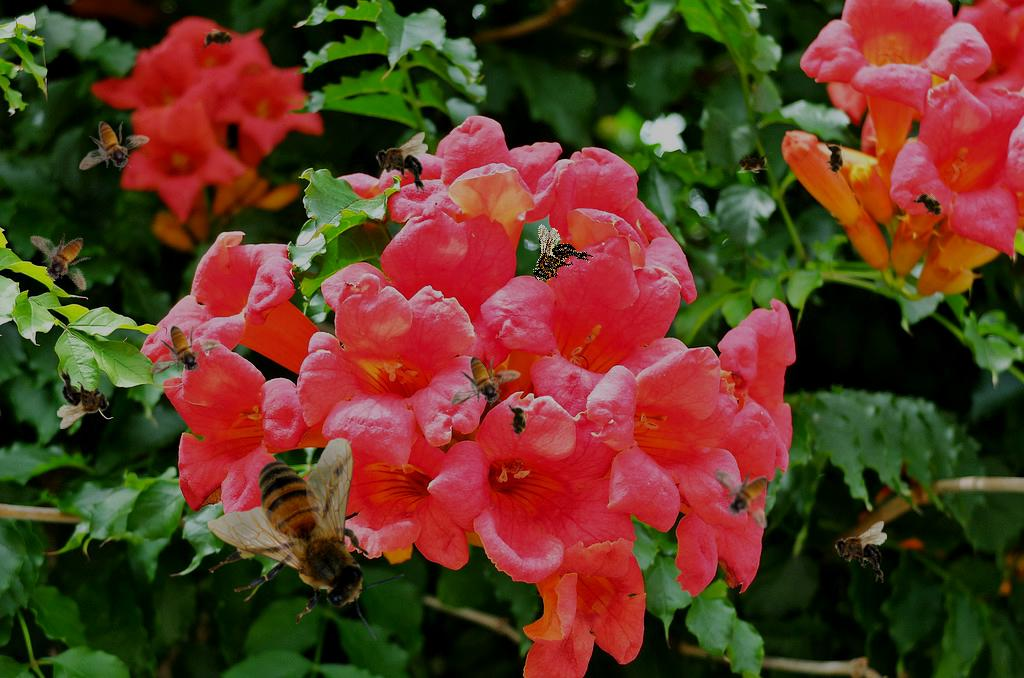Bee: (207, 437, 406, 641), (515, 221, 596, 299), (28, 218, 102, 303), (713, 456, 783, 539), (150, 325, 221, 375), (79, 121, 150, 171), (450, 356, 521, 406), (834, 521, 887, 583), (57, 367, 110, 429), (375, 132, 428, 194), (907, 183, 953, 227), (199, 28, 239, 50), (824, 139, 846, 179), (507, 401, 529, 441), (732, 152, 772, 174)
